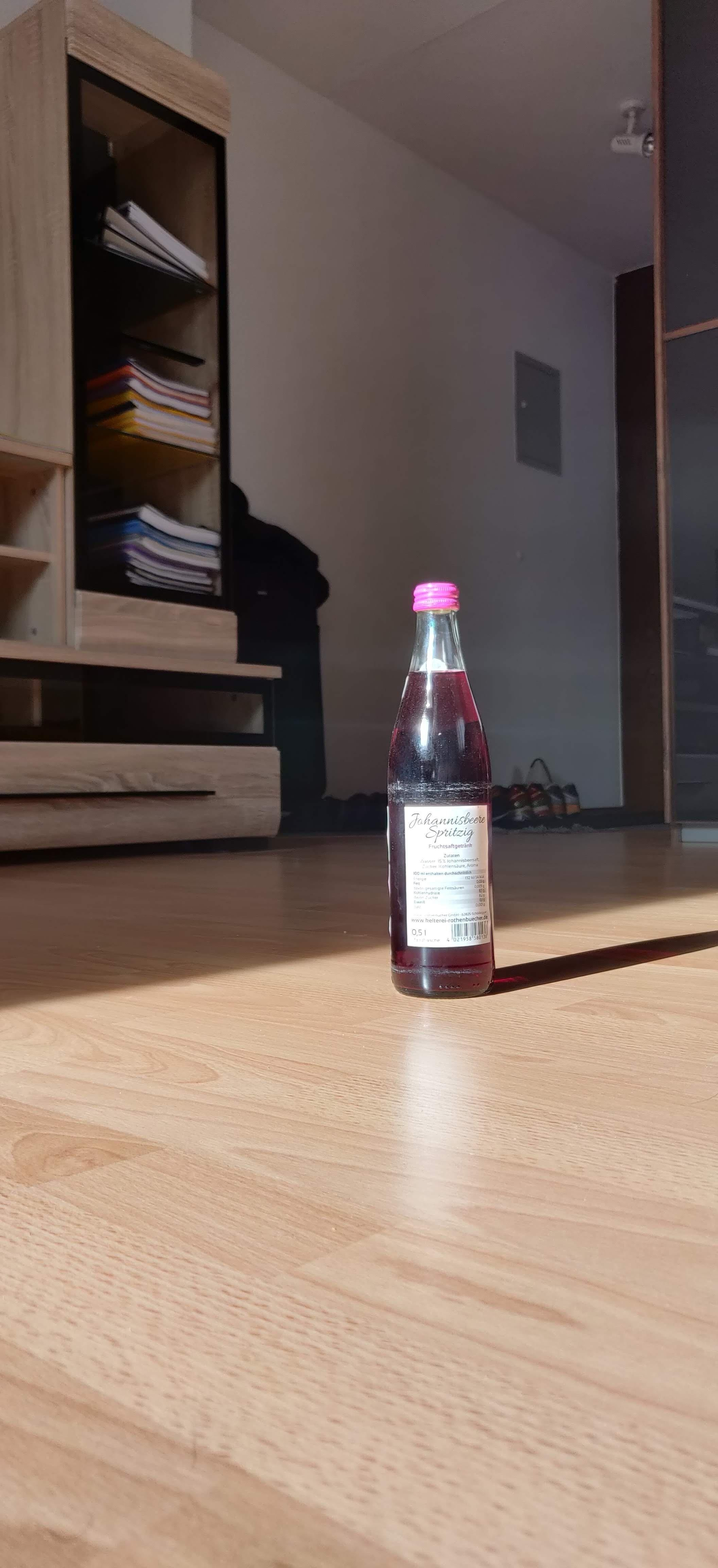bottle-glass: (385, 583, 495, 998)
